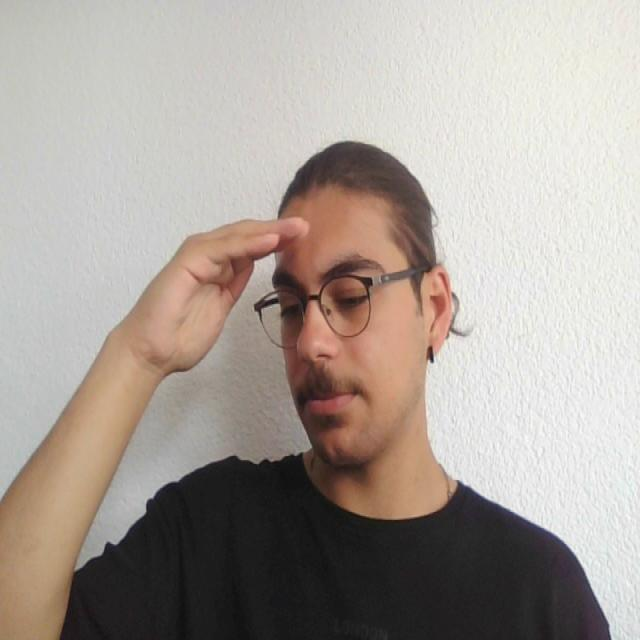Merhaba: (134, 188, 312, 432)
